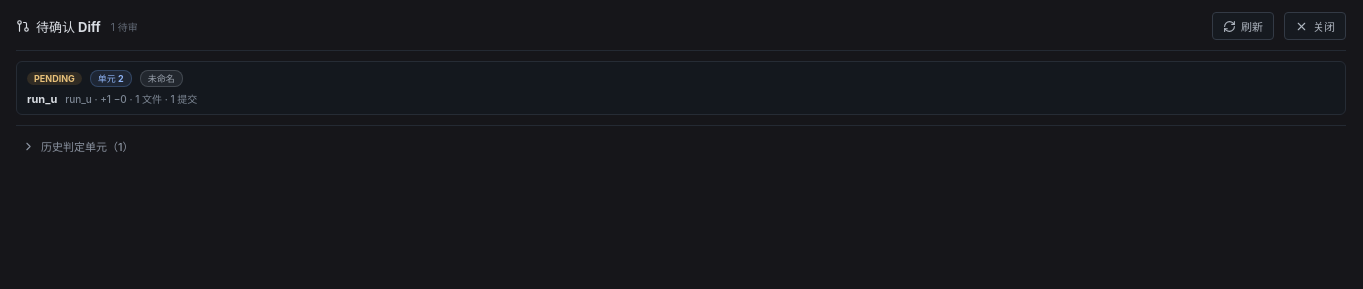
Test: approval units › lists only pending units up front; resolved units hide in history with badges
Expected: the text "run_u" is shown, [27,92,57,106]
Expected: the text "单元 2" is shown, [90,70,132,87]
# 选中单元 2：详情栏出现"拒绝本单元"按钮（限定到本单元的提交数）
Click the button "run_u" at (54, 78), box [16,61,1346,115]
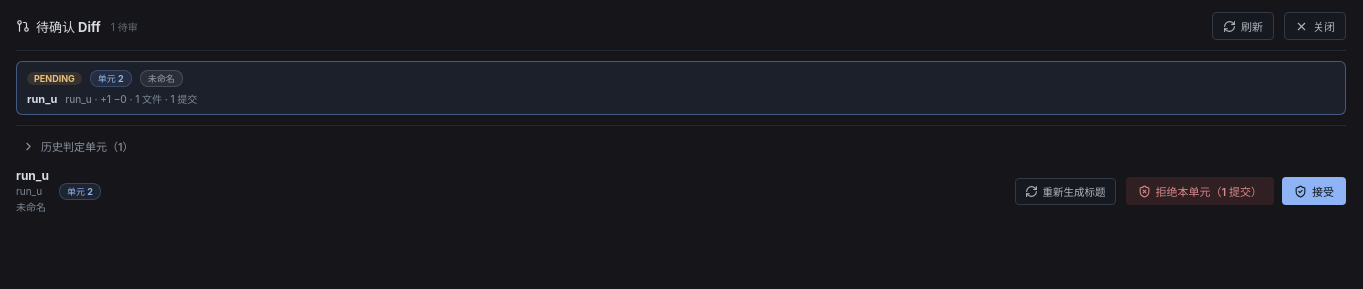
Now the button "拒绝本单元（1 提交）" is shown, box [1126,177,1274,205]
# 已判定单元 1 在折叠的历史区；展开后可见但只读（无判定按钮）
Click the button "历史判定单元（1）" at (80, 147), box [16,134,1346,158]
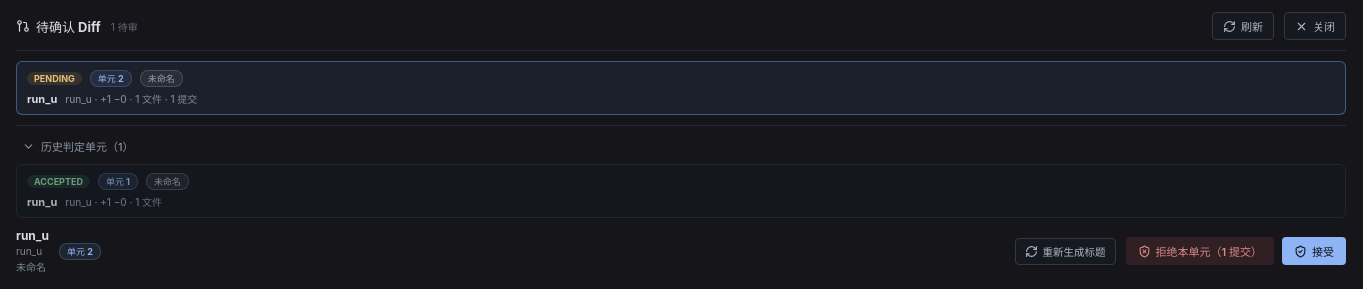
Click the button "单元 1" at (58, 182), box [16,164,1346,218]
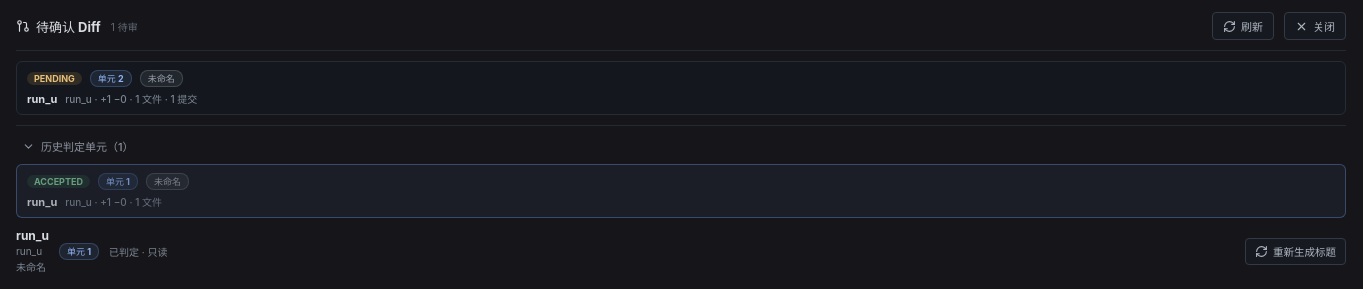
Now the text "已判定 · 只读" is shown, box [109,244,168,258]
Now the button "拒绝本单元" is gone
